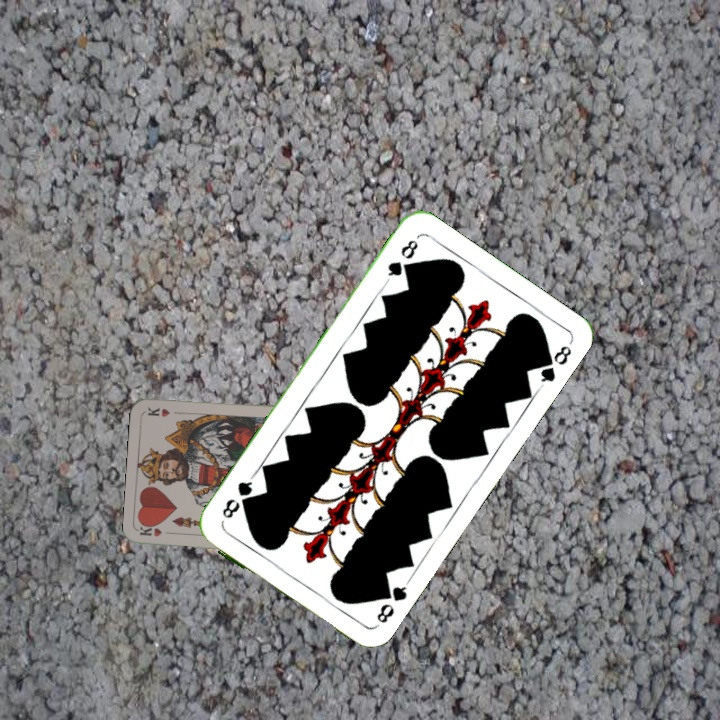G8: (382, 235, 421, 285), (372, 578, 411, 626)
HK: (137, 521, 178, 539)
